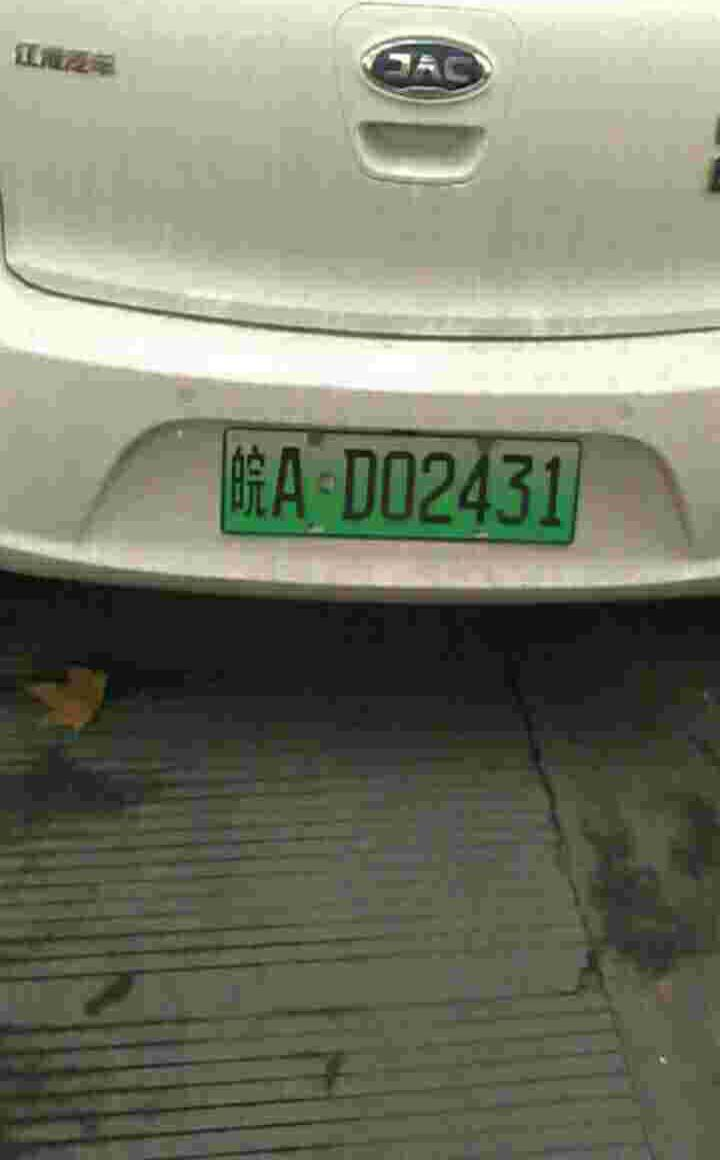car: (229, 428, 578, 549)
